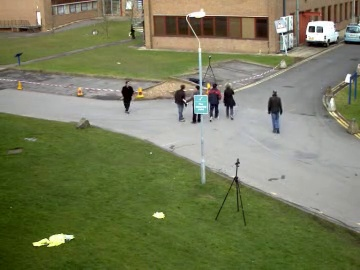person: (174, 84, 191, 120), (120, 82, 135, 113), (121, 82, 136, 113)
